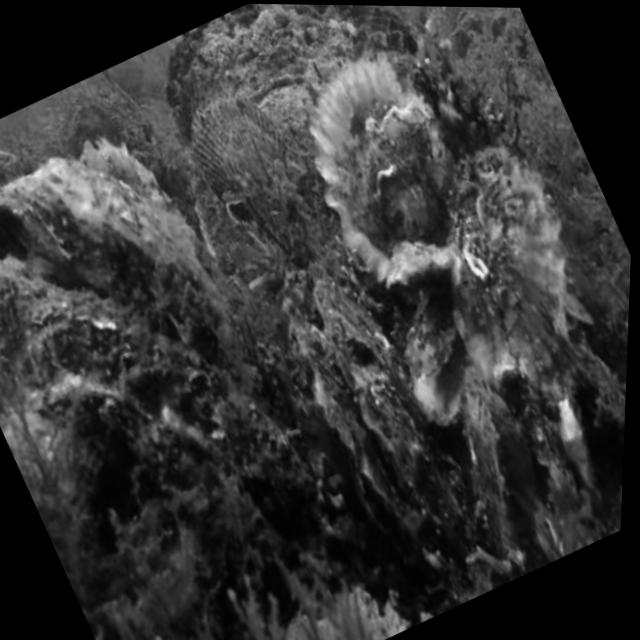Oyster-Indeterminate: (0, 255, 306, 512), (124, 413, 289, 640), (316, 287, 460, 520), (314, 58, 460, 280), (454, 143, 572, 394), (285, 296, 412, 525), (0, 379, 132, 568), (462, 385, 546, 557), (388, 238, 463, 290)
Oyster-Open: (416, 323, 470, 420)
